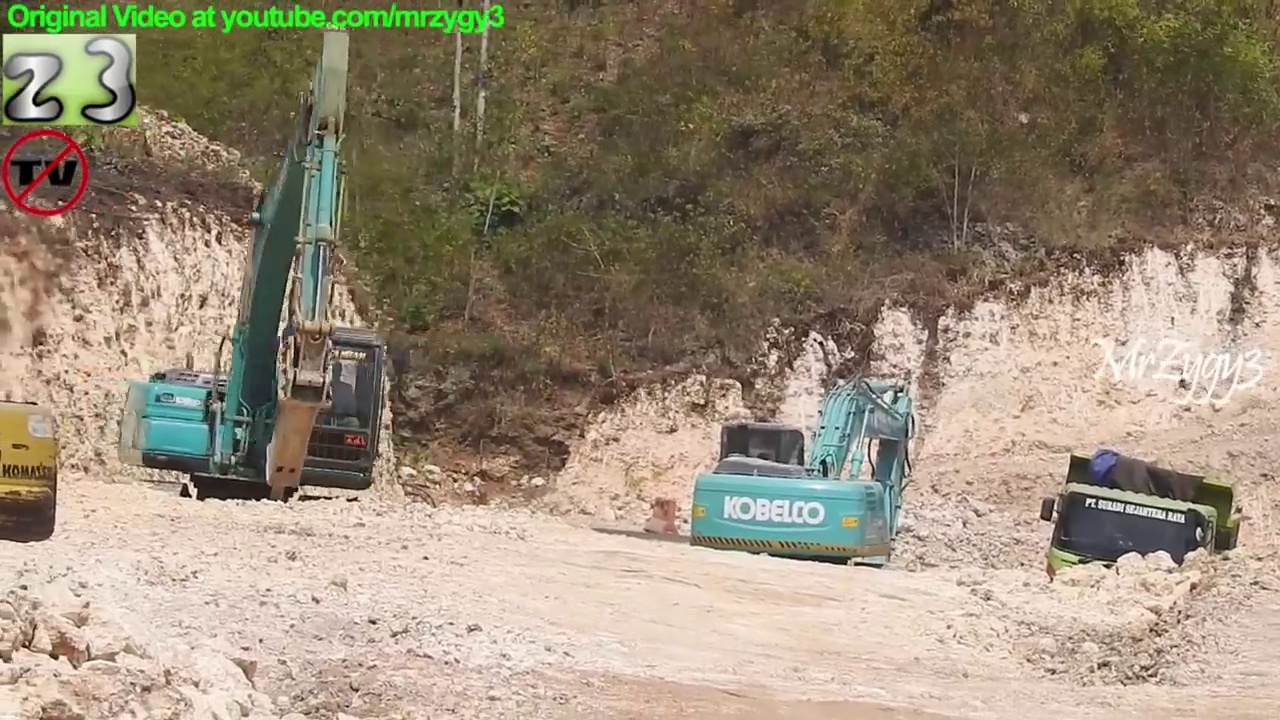excavator: (119, 14, 392, 555), (684, 369, 926, 631), (1, 392, 62, 550)
truck: (1034, 444, 1254, 662)
